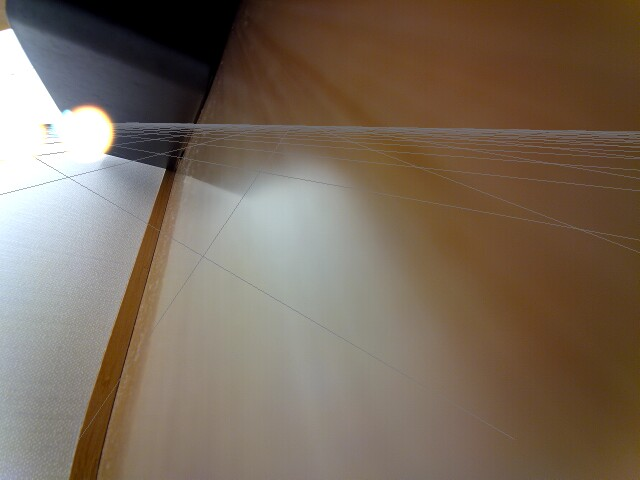fire: (62, 102, 116, 159), (1, 116, 49, 165)
